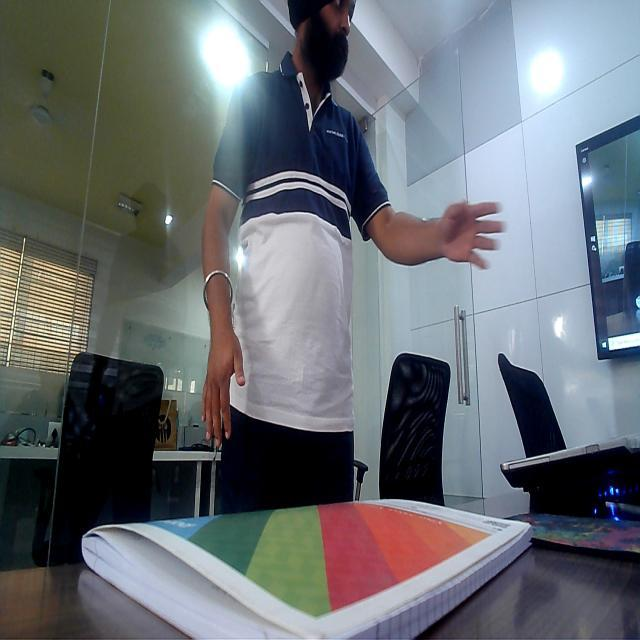without_gloves: (421, 189, 518, 277), (198, 333, 248, 452)
